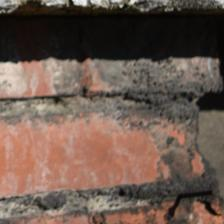Crack: (93, 45, 131, 163)
